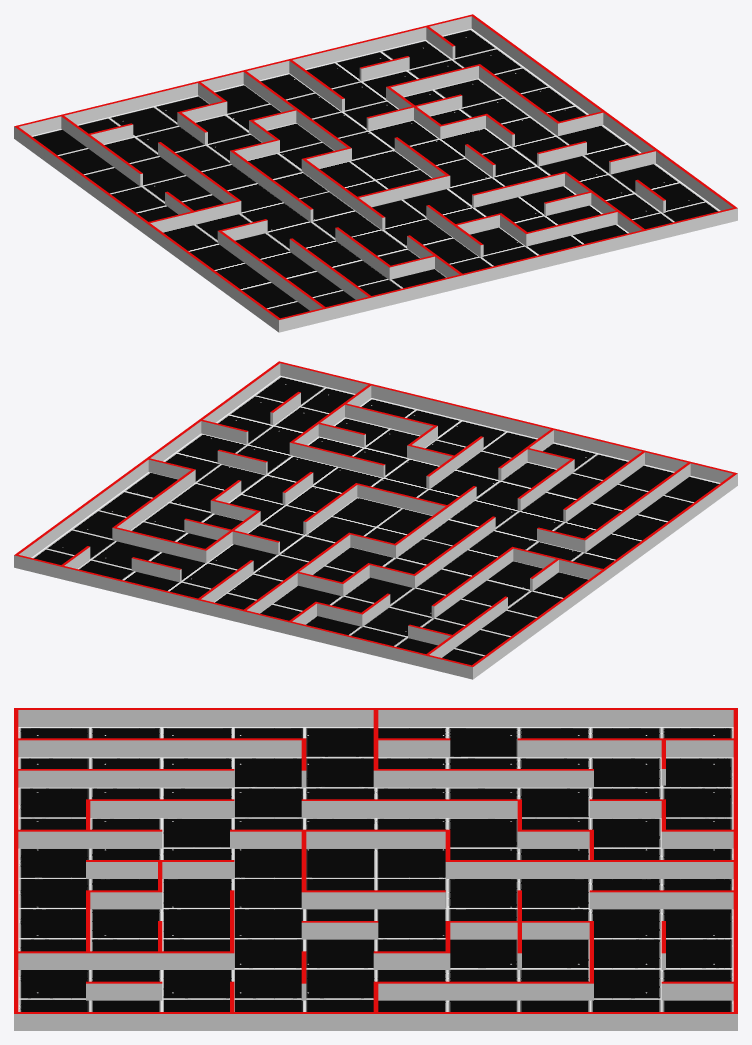
Rendered from minus_visual_debug.dae.
3 renders of one model, top to bottom at view 1: azimuth 30°, elevation 25°; view 2: azimuth 150°, elevation 25°; view 3: azimuth 270°, elevation 25°, orthographic. The views are drawn at different scales.
Visible parts, largest first — view 1: _Assemb_11_05_v3_Root_color-2, _Assemb_11_05_v3_Root_white, _Assemb_11_05_v3_Root_color; view 2: _Assemb_11_05_v3_Root_color-2, _Assemb_11_05_v3_Root_white, _Assemb_11_05_v3_Root_color; view 3: _Assemb_11_05_v3_Root_color-2, _Assemb_11_05_v3_Root_white, _Assemb_11_05_v3_Root_color.
Part boxes in pixels (x1,y1,x2,y2): _Assemb_11_05_v3_Root_color-2: [32, 29, 719, 318]; _Assemb_11_05_v3_Root_white: [14, 16, 737, 332]; _Assemb_11_05_v3_Root_color: [14, 14, 737, 319]; _Assemb_11_05_v3_Root_color-2: [32, 376, 719, 665]; _Assemb_11_05_v3_Root_white: [14, 363, 737, 679]; _Assemb_11_05_v3_Root_color: [14, 361, 737, 666]; _Assemb_11_05_v3_Root_color-2: [18, 727, 733, 1011]; _Assemb_11_05_v3_Root_white: [14, 710, 737, 1030]; _Assemb_11_05_v3_Root_color: [14, 708, 737, 1013].
Bounding box in the file's own units: 1.93 × 1.93 × 0.0532.
3 materials, 1 textured.
